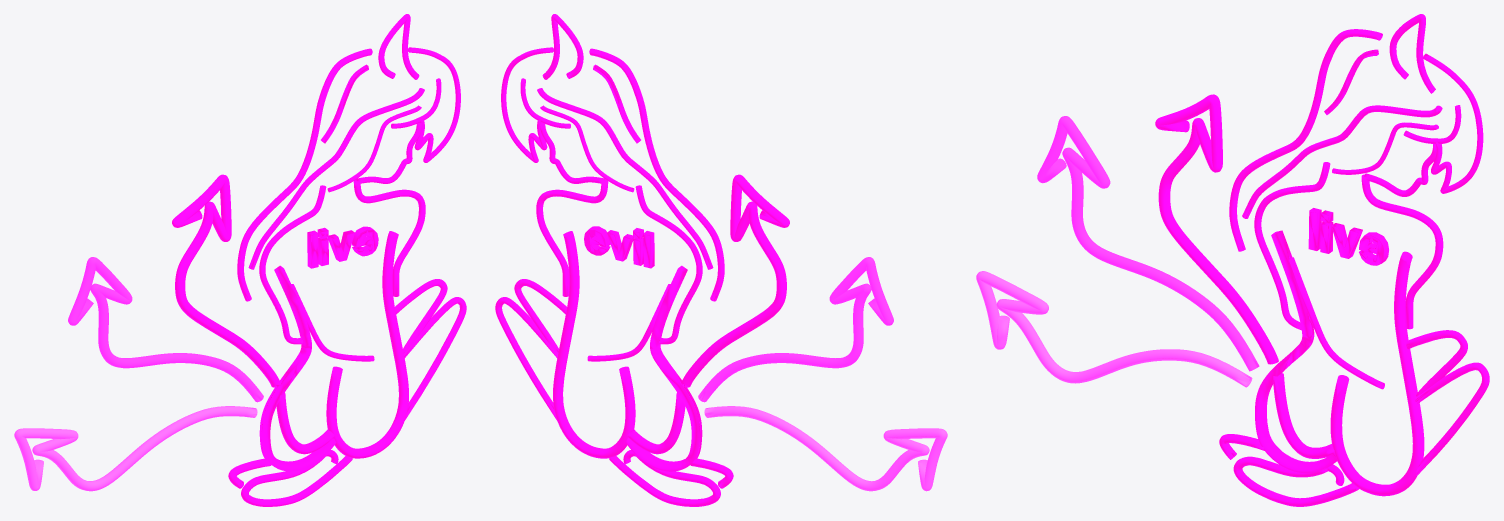
File: evil_neon_sign.glb
3 renders of one model, left to right at view 1: azimuth 30°, elevation 25°; view 2: azimuth 150°, elevation 25°; view 3: azimuth 330°, elevation 25°, orthographic. The views are drawn at different scales.
Visible parts, largest first — view 1: Object_7, Object_45, Object_49; view 2: Object_7, Object_45, Object_49; view 3: Object_7, Object_49, Object_45.
Boxes of the visible parts, left/top/right/bottom form: Object_7: left=172, top=14, right=466, bottom=506; Object_45: left=14, top=406, right=257, bottom=491; Object_49: left=68, top=257, right=263, bottom=402; Object_7: left=495, top=14, right=789, bottom=506; Object_45: left=704, top=406, right=947, bottom=491; Object_49: left=698, top=257, right=893, bottom=402; Object_7: left=1155, top=14, right=1489, bottom=506; Object_49: left=1037, top=116, right=1259, bottom=371; Object_45: left=976, top=271, right=1252, bottom=387.
Size of the model in its own units: 1.29 by 1.26 by 0.0261.
